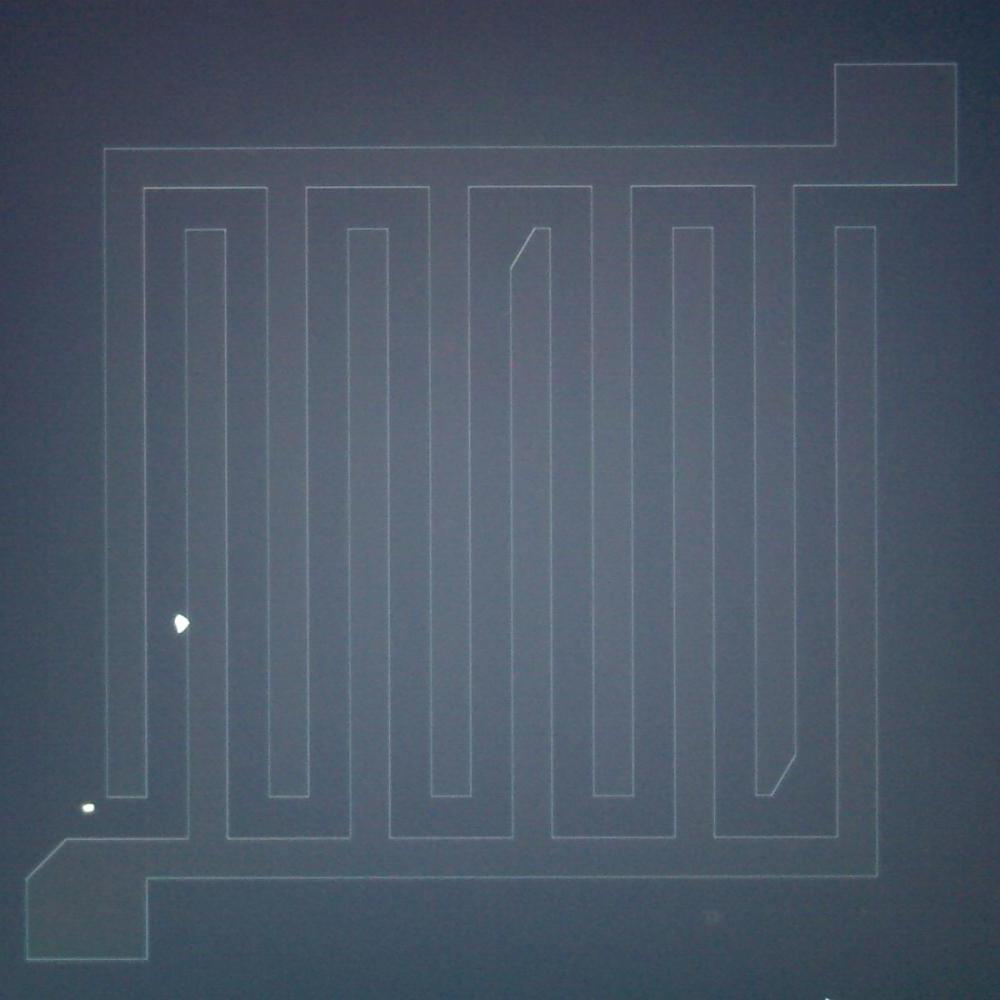edge circuit: (14, 824, 84, 895), (748, 740, 814, 807), (498, 214, 561, 277)
spot: (166, 608, 196, 642), (74, 793, 104, 819)
